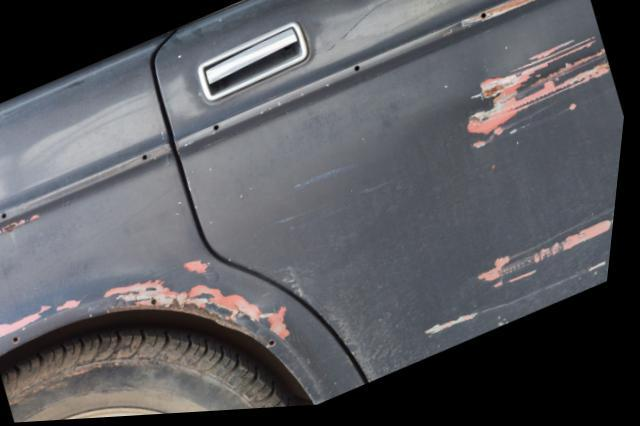scratch: (422, 205, 621, 348), (0, 258, 298, 352), (465, 30, 617, 157)
